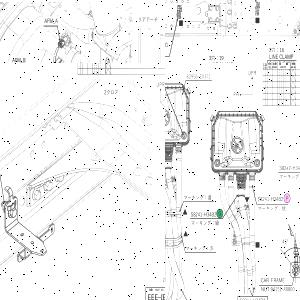PartNumber: (190, 210, 217, 218), (257, 195, 284, 203), (186, 73, 211, 80), (278, 164, 300, 170), (270, 287, 295, 292), (268, 60, 294, 63), (239, 297, 265, 300)
